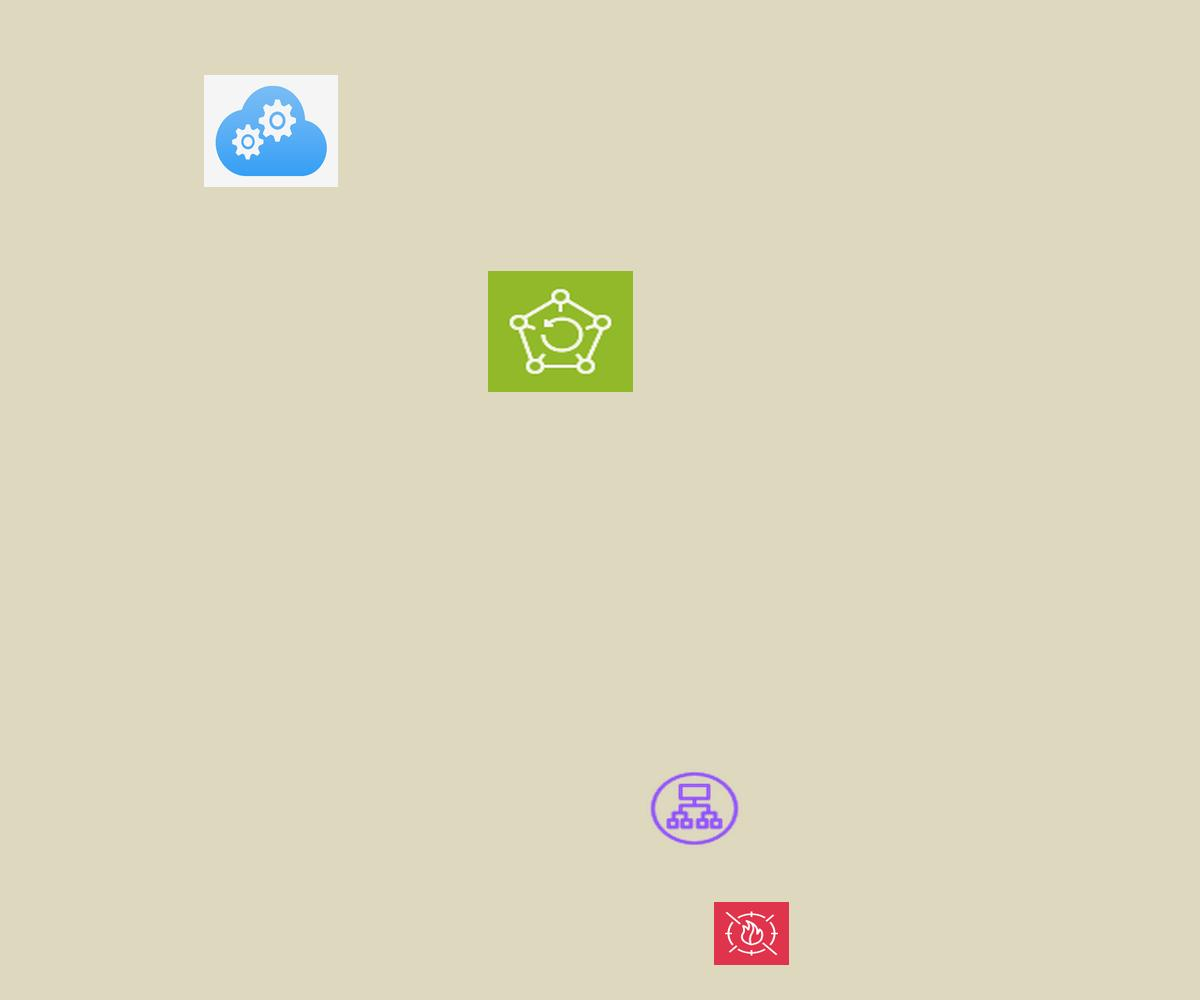AWS-Backup: (488, 271, 633, 392)
AWS-Res_Elastic-Load-Balancing_Application-Load-Balancer: (647, 769, 742, 848)
AWS-WAF: (714, 902, 789, 965)
Azure_cloud_services: (204, 75, 338, 187)
